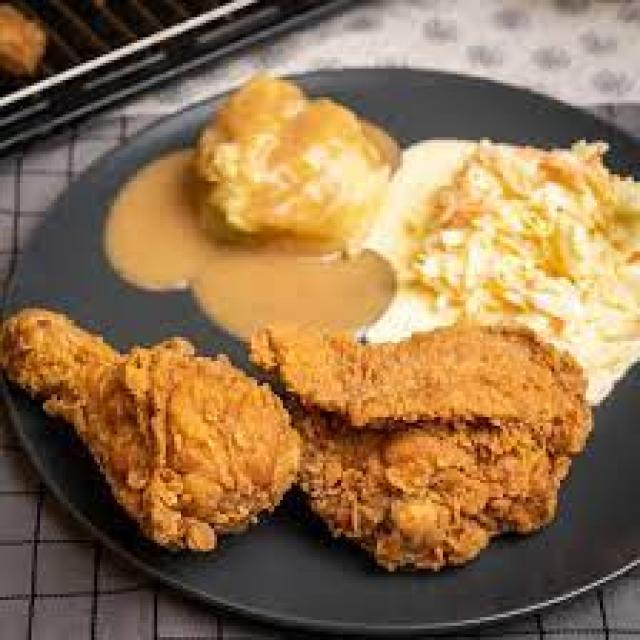Frango: (326, 322, 580, 572), (20, 350, 273, 569)
